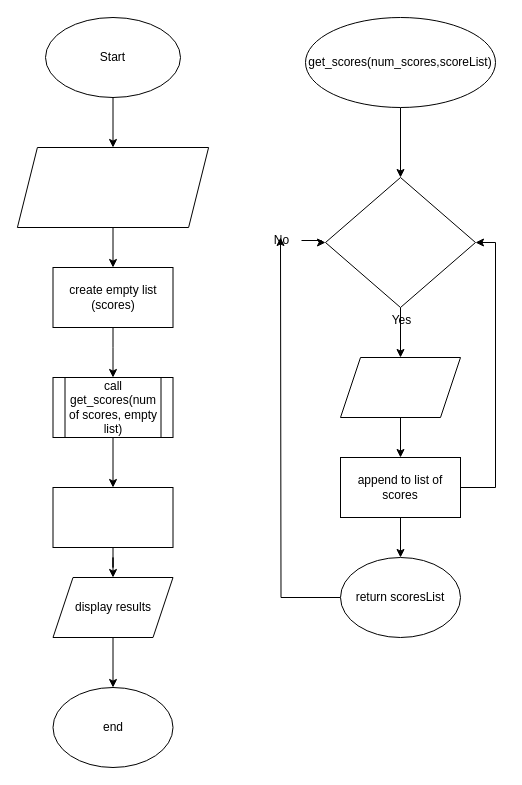
Image size: 522x785. Some labels were removed from this diagram. The shapes that lost their labels are listed below. From the top down, each one's box as (x1, y1, x2, y2) in pixels, then its label:
(16, 146, 209, 228): Ask user for number of scores
(324, 176, 476, 308): more scores
(340, 356, 460, 418): enter a score
(52, 486, 173, 548): Calculate scores average
